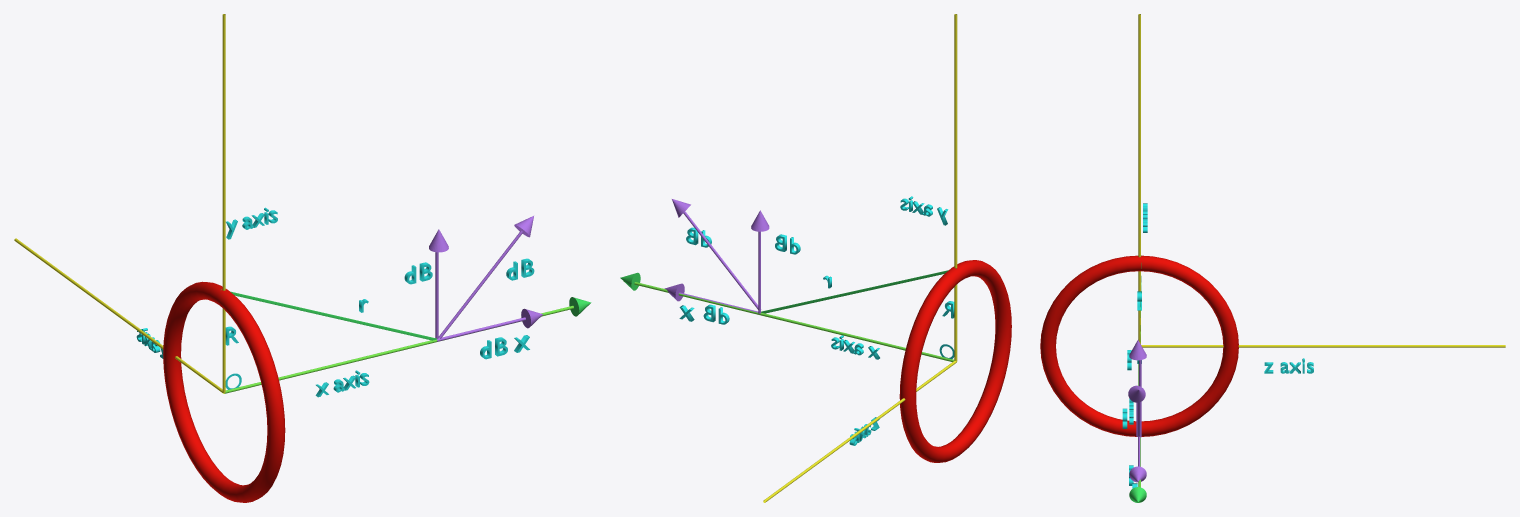
Rendered from axial_mf.glb.
3 views of the same model, side by side, from view 1: azimuth 30°, elevation 25°; view 2: azimuth 150°, elevation 25°; view 3: azimuth 270°, elevation 25° (orthographic). The views are drawn at different scales.
Parts seen in each view (by area): view 1: Torus, Surface, Surface.002, Surface.003, Surface.004; view 2: Torus, Surface, Surface.002, Surface.003, Surface.004, Text.001, Text; view 3: Torus, Surface.003, Surface.
Boxes of the visible parts, bbox=[...] form: Torus: bbox=[163, 281, 285, 502]; Surface: bbox=[222, 14, 225, 392]; Surface.002: bbox=[224, 305, 573, 393]; Surface.003: bbox=[14, 238, 224, 393]; Surface.004: bbox=[221, 289, 436, 340]; Torus: bbox=[899, 260, 1011, 462]; Surface: bbox=[954, 14, 957, 361]; Surface.002: bbox=[623, 281, 954, 361]; Surface.003: bbox=[763, 360, 956, 502]; Surface.004: bbox=[761, 268, 956, 313]; Text.001: bbox=[900, 196, 948, 225]; Text: bbox=[831, 335, 879, 359]; Torus: bbox=[1040, 255, 1238, 436]; Surface.003: bbox=[1141, 345, 1505, 347]; Surface: bbox=[1138, 14, 1140, 343].
Size of the model in its own units: 8.29 by 10.17 by 10.17.
